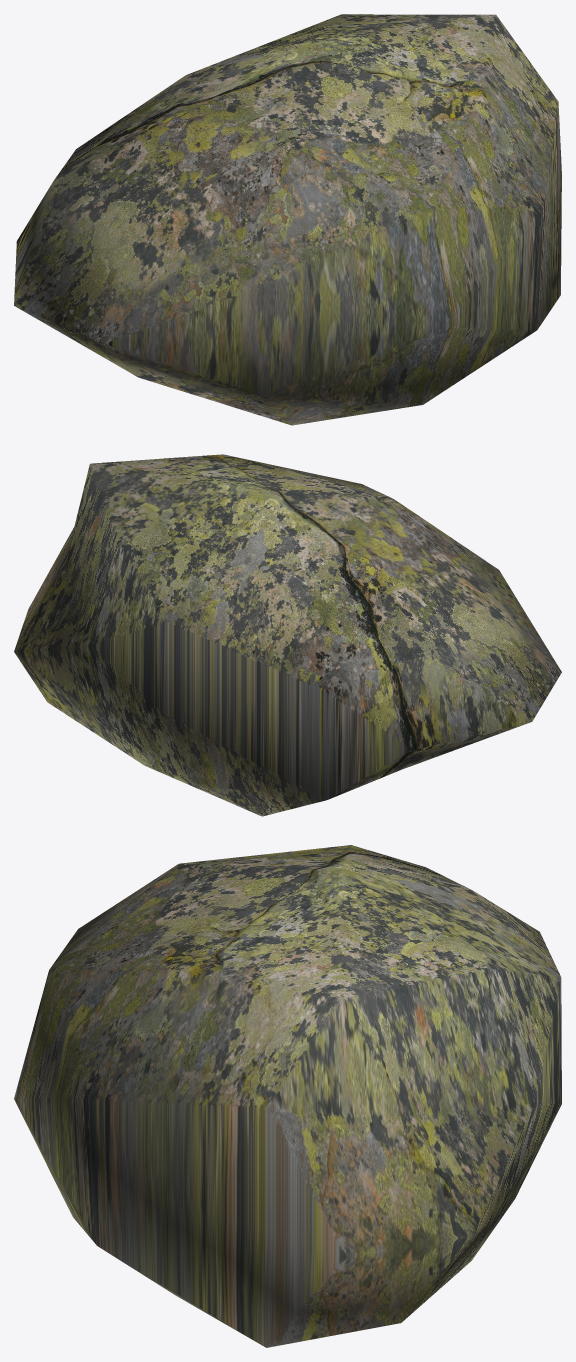
The model's file is boulder_b_lod2.gltf.
3 views of the same model, one above another, from view 1: azimuth 30°, elevation 25°; view 2: azimuth 150°, elevation 25°; view 3: azimuth 270°, elevation 25° (orthographic). The views are drawn at different scales.
Parts seen in each view (by area): view 1: boulder_b_LOD2; view 2: boulder_b_LOD2; view 3: boulder_b_LOD2.
Boxes of the visible parts, <box> form: boulder_b_LOD2: <box>14,14,561,425</box>; boulder_b_LOD2: <box>14,454,561,816</box>; boulder_b_LOD2: <box>14,845,561,1347</box>.
Bounding box in the file's own units: 1.82 × 0.9825 × 1.27.
Materials: 1 (1 with a texture image).
